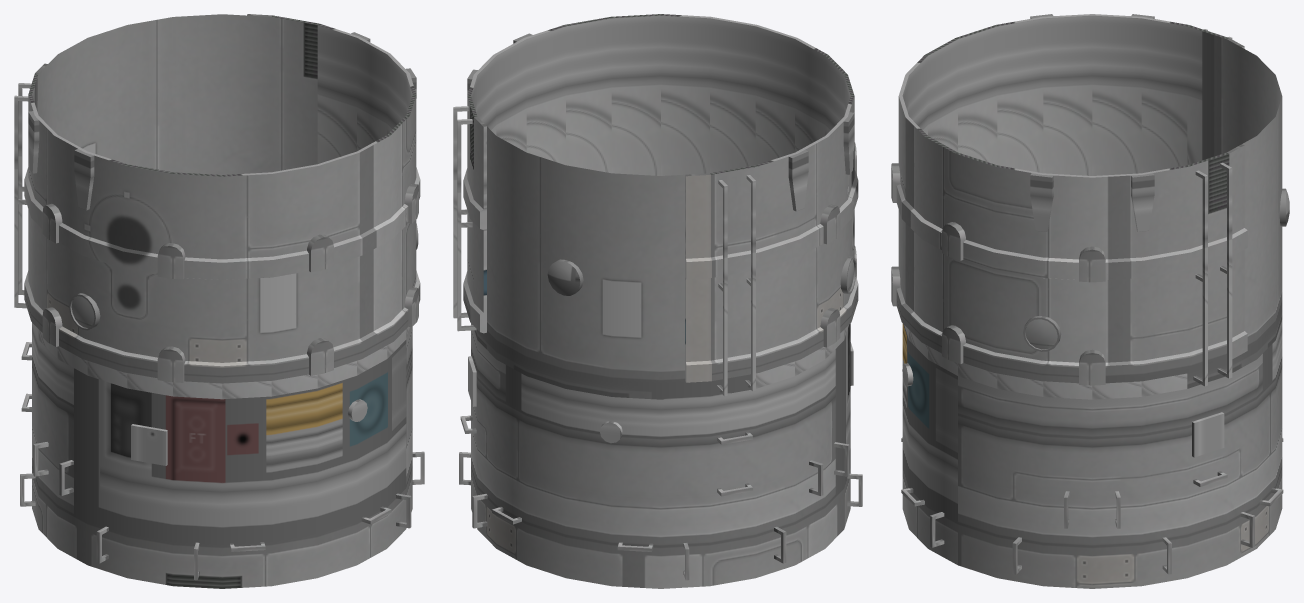
The model's file is eridani_crew_s2_1.obj.
3 renders of one model, left to right at view 1: azimuth 30°, elevation 25°; view 2: azimuth 150°, elevation 25°; view 3: azimuth 270°, elevation 25°, orthographic.
Parts seen in each view (by area): view 1: mesh1, windows1; view 2: mesh1; view 3: mesh1, windows1.
Boxes of the visible parts, x1=… form: mesh1: x1=14, y1=14, x2=424, y2=588; windows1: x1=71, y1=296, x2=94, y2=327; mesh1: x1=453, y1=14, x2=862, y2=588; mesh1: x1=891, y1=14, x2=1289, y2=588; windows1: x1=1025, y1=319, x2=1057, y2=349.
Size of the model in its own units: 2.66 by 3 by 2.62.
Materials: 2 (2 with a texture image).
